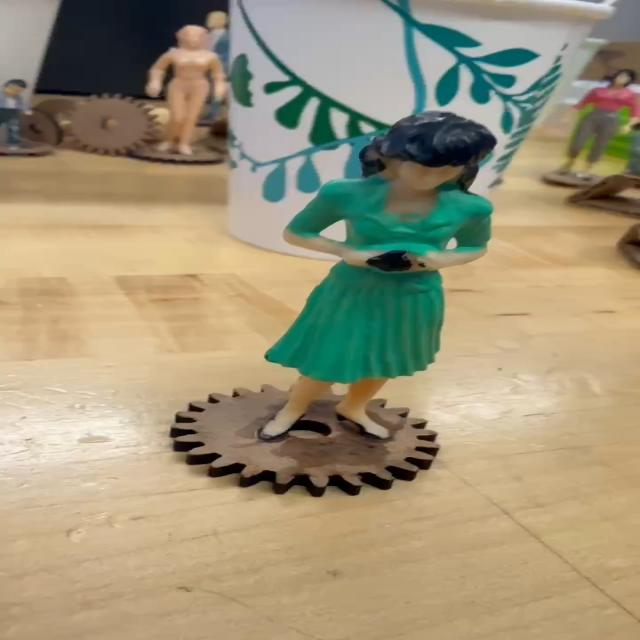Authorized: (237, 102, 503, 475)
